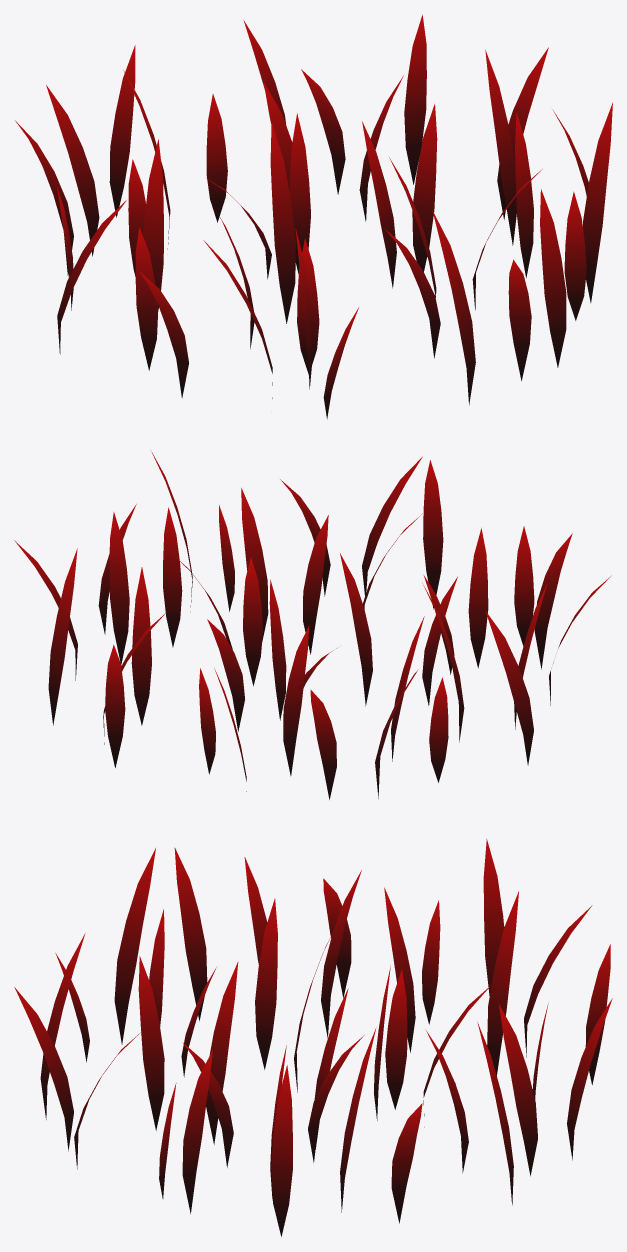
Rendered from SM_Grass1.fbx.
3 views of the same model, one above another, from view 1: azimuth 30°, elevation 25°; view 2: azimuth 150°, elevation 25°; view 3: azimuth 270°, elevation 25° (orthographic). The views are drawn at different scales.
Parts seen in each view (by area): view 1: Plane; view 2: Plane; view 3: Plane.
Boxes of the visible parts, <box> form: Plane: <box>15,14,612,419</box>; Plane: <box>14,452,611,799</box>; Plane: <box>14,838,612,1236</box>.
Size of the model in its own units: 1.03 by 0.3455 by 1.02.
